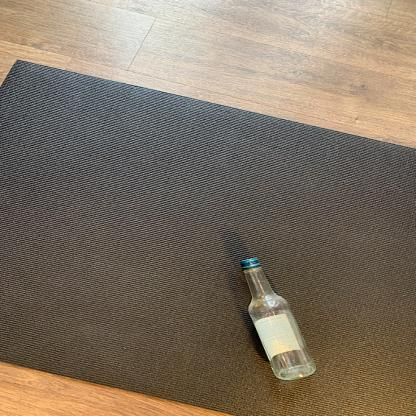trash: (239, 258, 319, 382)
